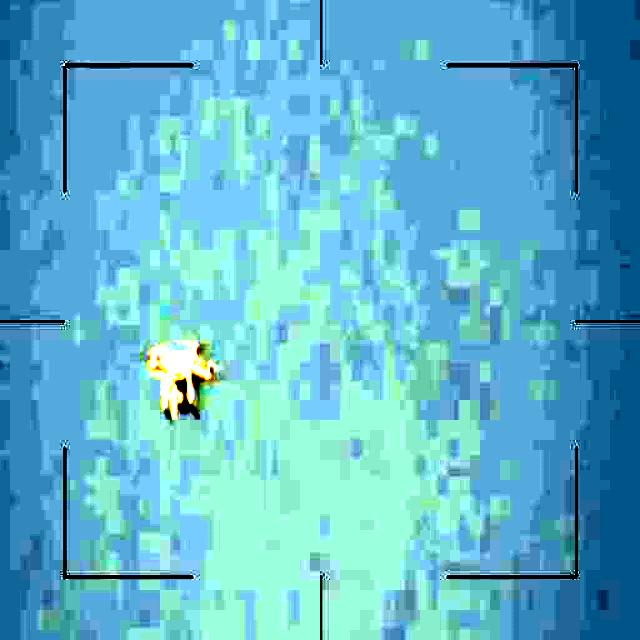bird: (135, 338, 229, 428)
